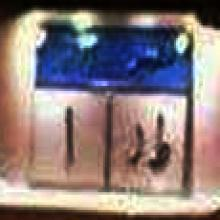1: (62, 100, 80, 171)
Taa: (149, 110, 171, 171)
raa: (120, 121, 144, 169)
